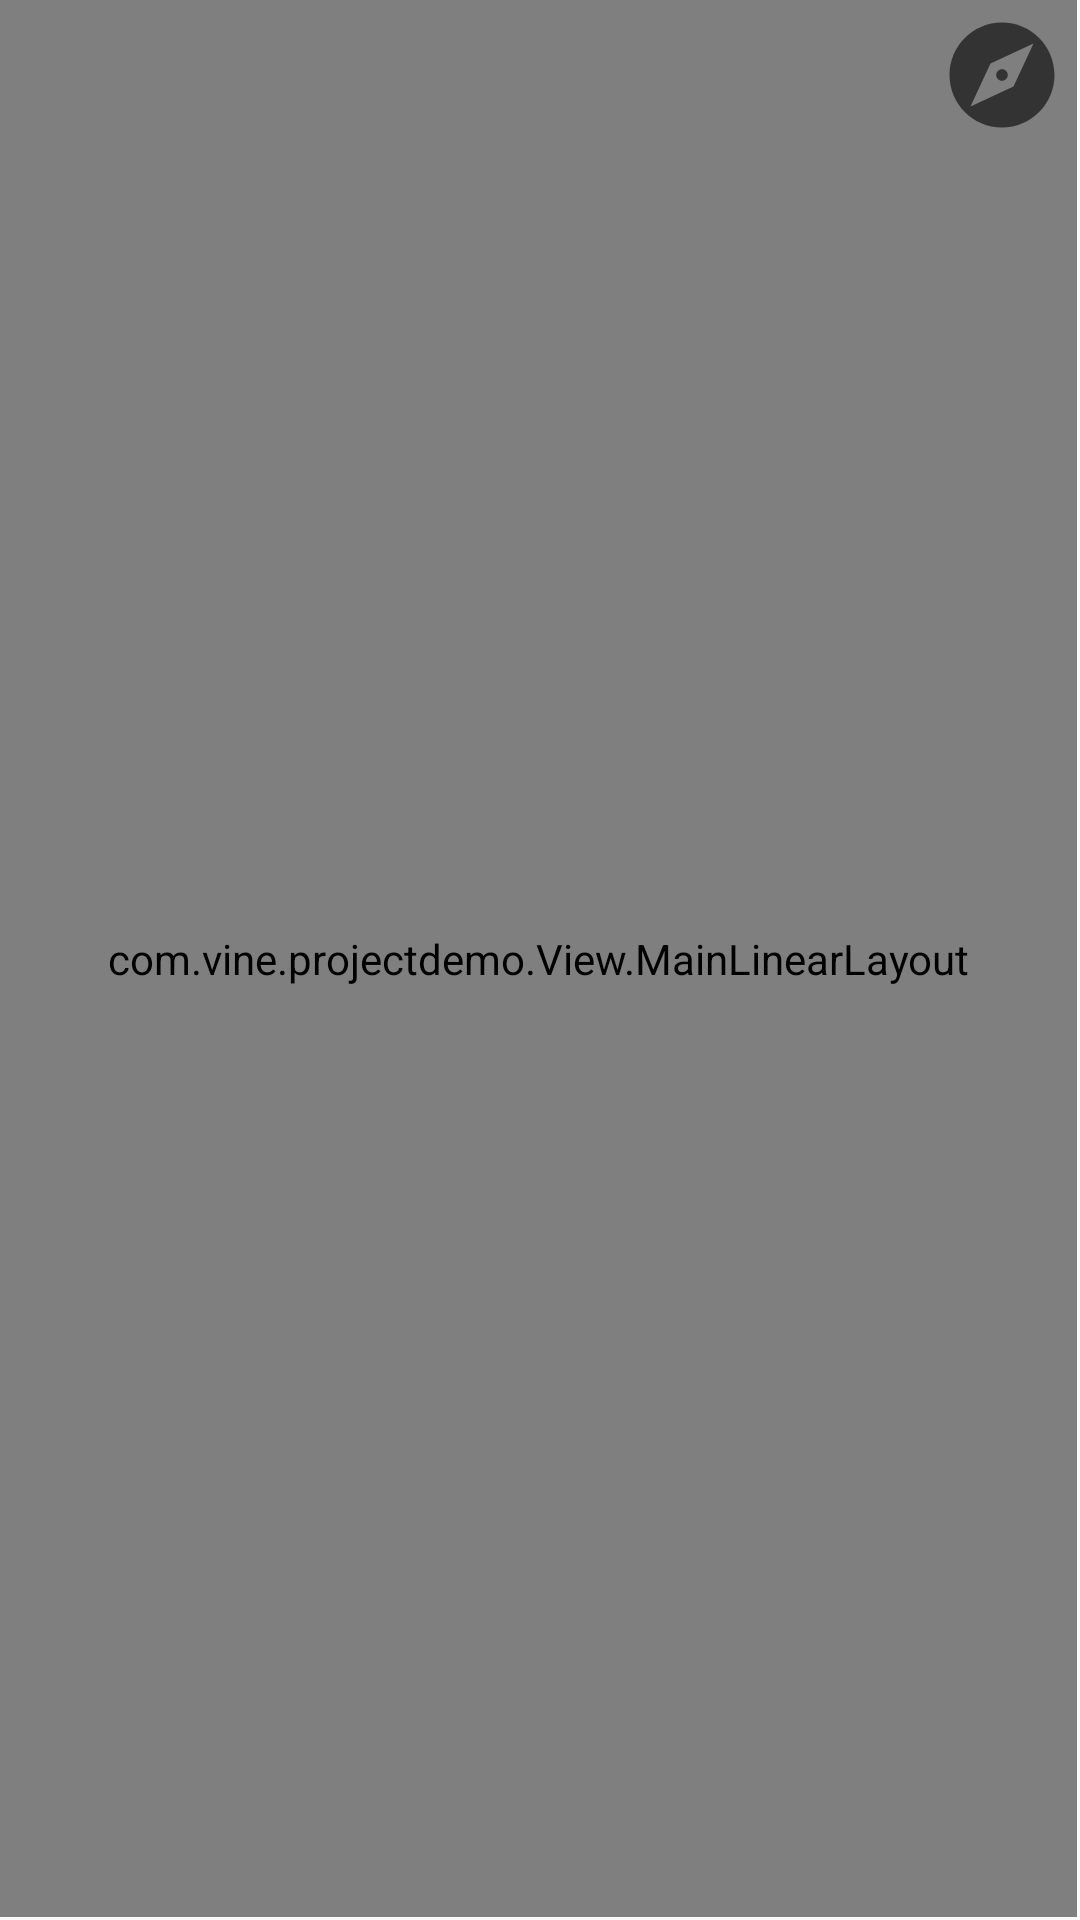

Named icons in this screenshot (1080*1920) and their bounding boxes, [x1,y1,x2,y2]:
explore: [949,22,1055,128]
